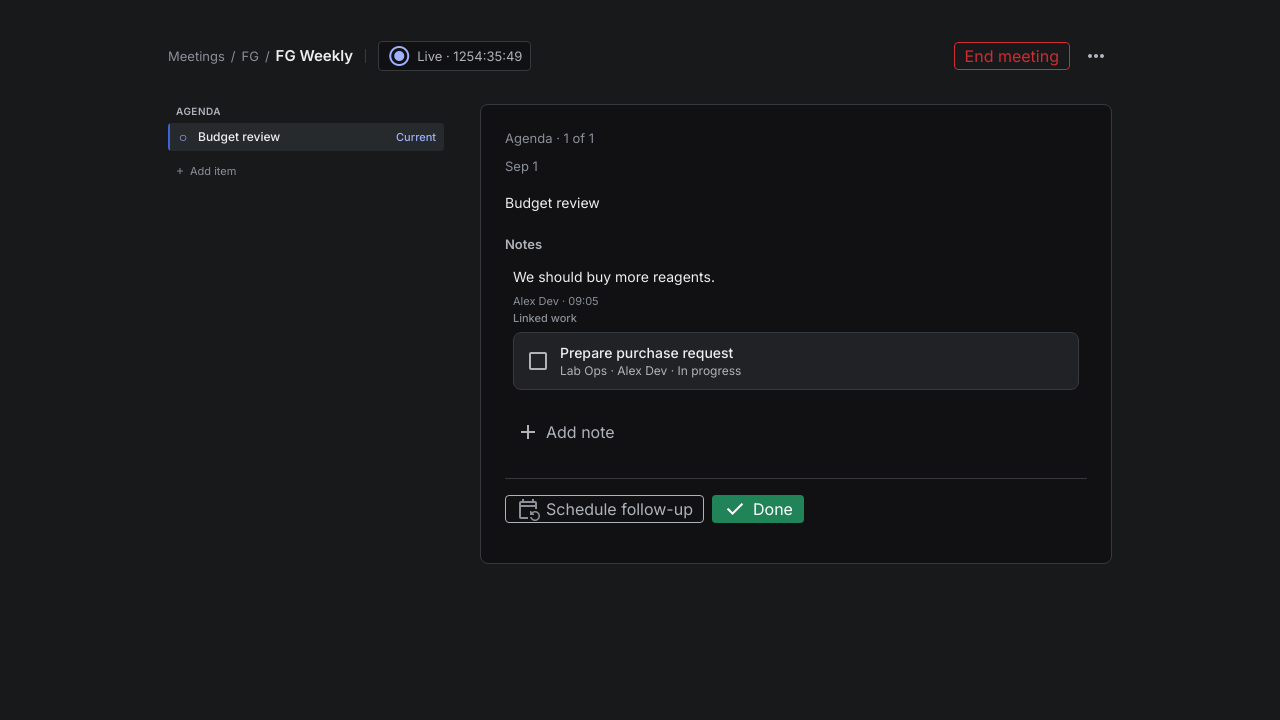
Test: Meeting Inspector stale PATCH response reconciliation › does not replace or corrupt the selected Work Item when a PATCH fails
Expected: the button "End meeting" is shown, [954,42,1070,70]
Click the button "Prepare purchase request Lab Ops · Alex Dev · In progress" at coordinates (647, 352), box [513,332,1079,390]
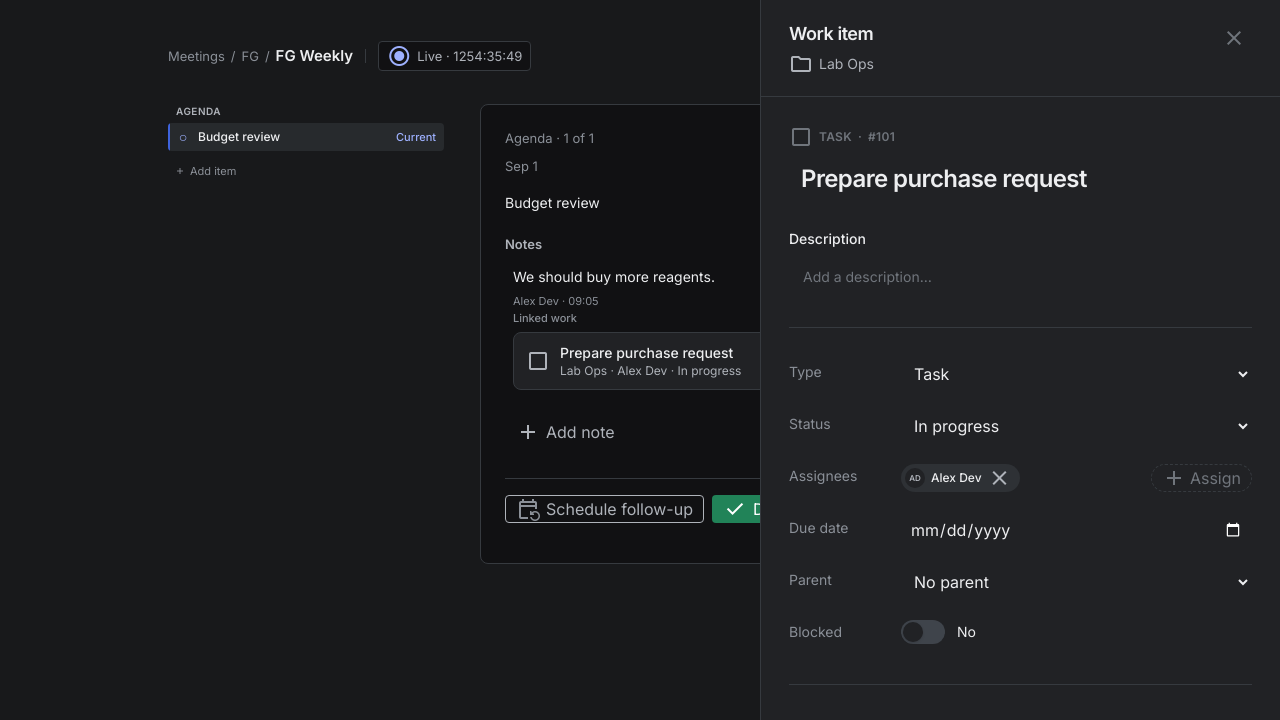
Now the element "Work item" is shown, box [760,0,1279,719]
Now the button "Prepare purchase request" is shown, box [801,164,1087,193]
Now the dropdown named "Status" shows "In progress"
Select "Todo" in the dropdown named "Status" at coordinates (1076, 426), box [901,408,1252,444]
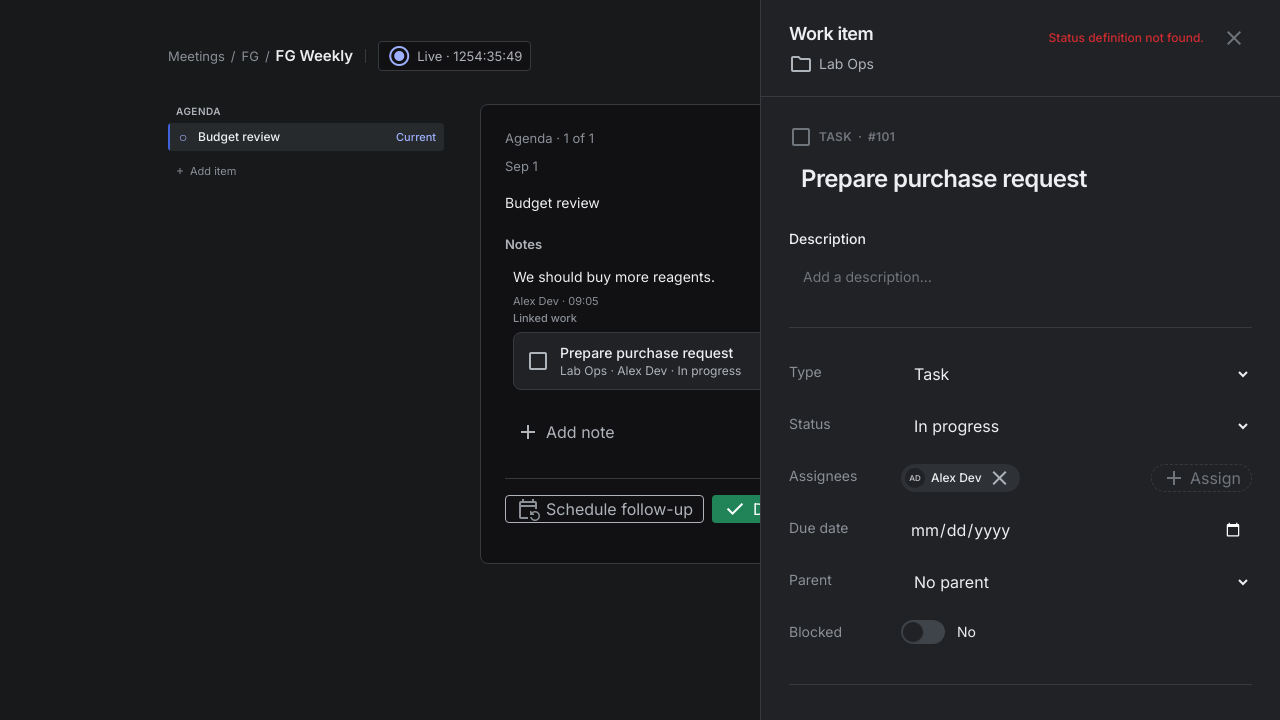
Now the button "Prepare purchase request" is shown, box [801,164,1087,193]
Now the text "Status definition not found." is shown, box [1048,30,1204,46]
